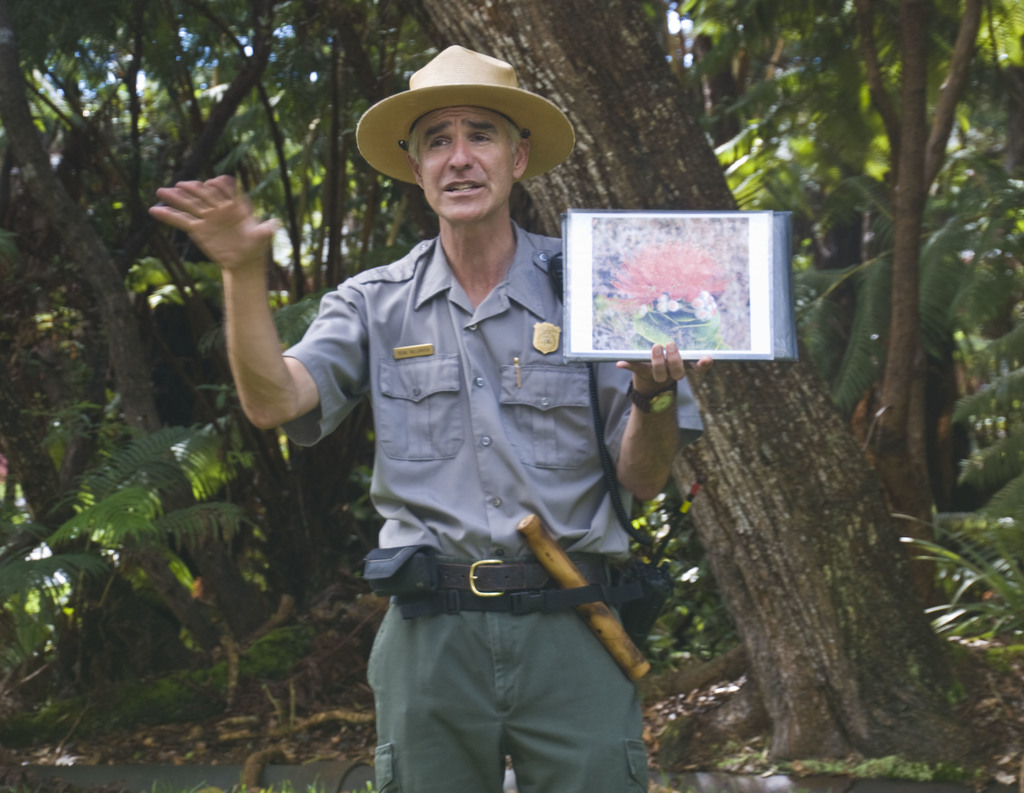Human_hand: (146, 174, 284, 274), (611, 343, 713, 387)
